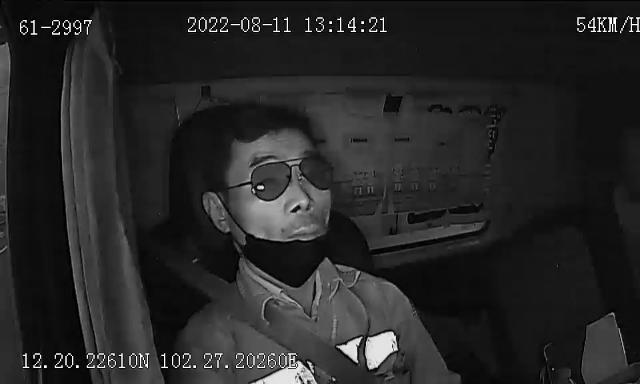SafeDriving: (417, 96, 461, 121)
Seatbelt: (184, 258, 380, 384)
